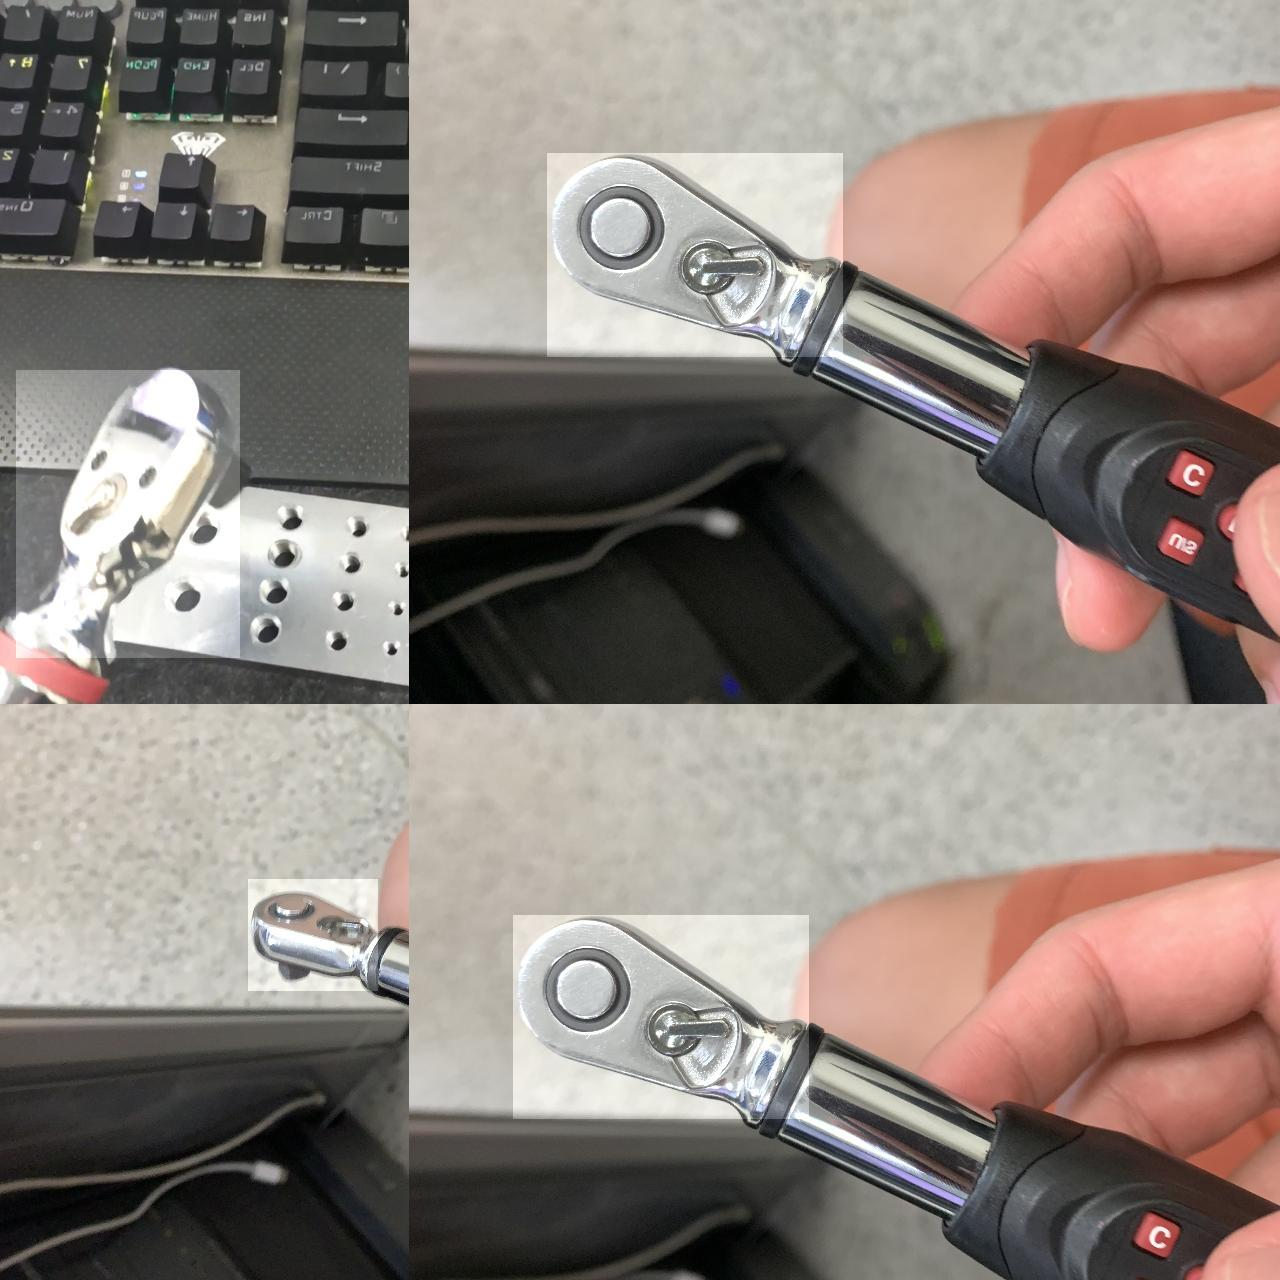Tool: (14, 369, 239, 658), (546, 152, 842, 356), (512, 914, 808, 1118), (247, 878, 377, 990)
